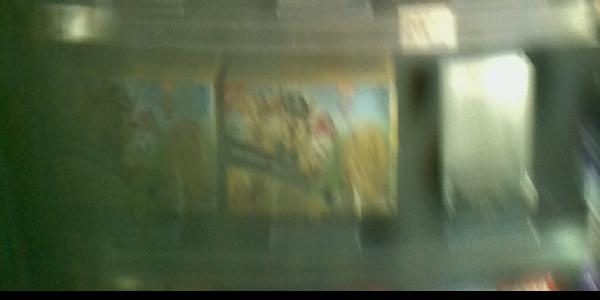icecream: (32, 58, 218, 212), (220, 62, 400, 218)
